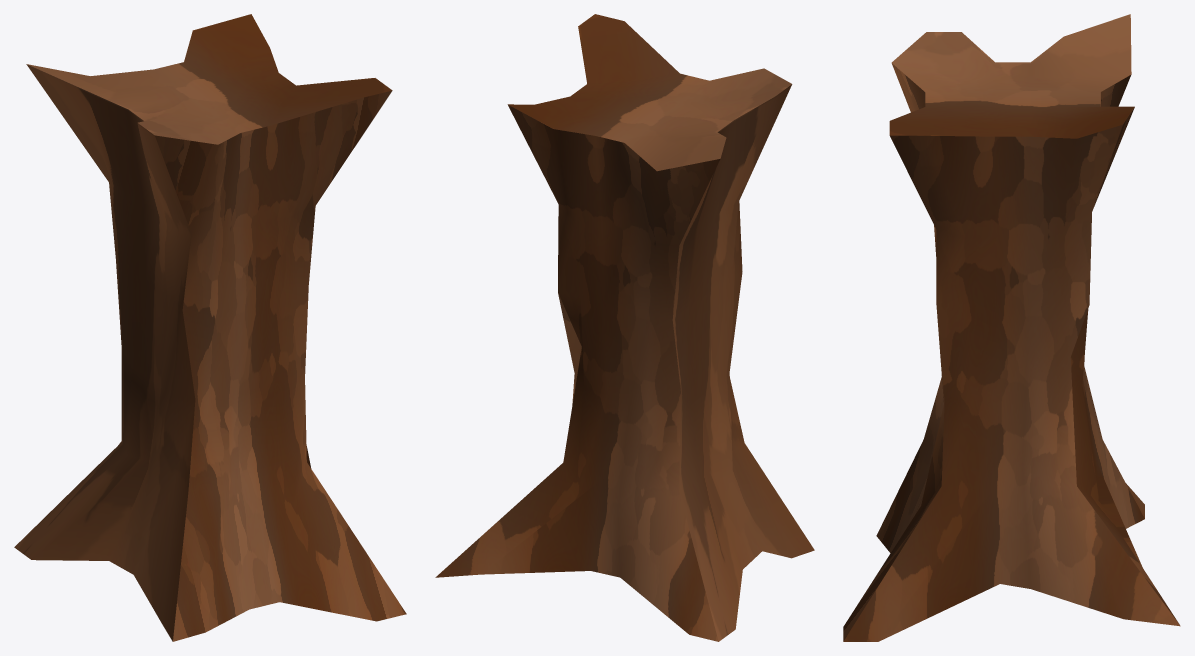
Rendered from Tree Stump.fbx.
3 views of the same model, side by side, from view 1: azimuth 30°, elevation 25°; view 2: azimuth 150°, elevation 25°; view 3: azimuth 270°, elevation 25° (orthographic). The views are drawn at different scales.
Visible parts, largest first — view 1: pCube1; view 2: pCube1; view 3: pCube1.
Boxes of the visible parts, <box> form: pCube1: <box>14,14,406,641</box>; pCube1: <box>435,14,814,641</box>; pCube1: <box>843,14,1180,641</box>.
Size of the model in its own units: 2.43 by 4.31 by 2.58.
